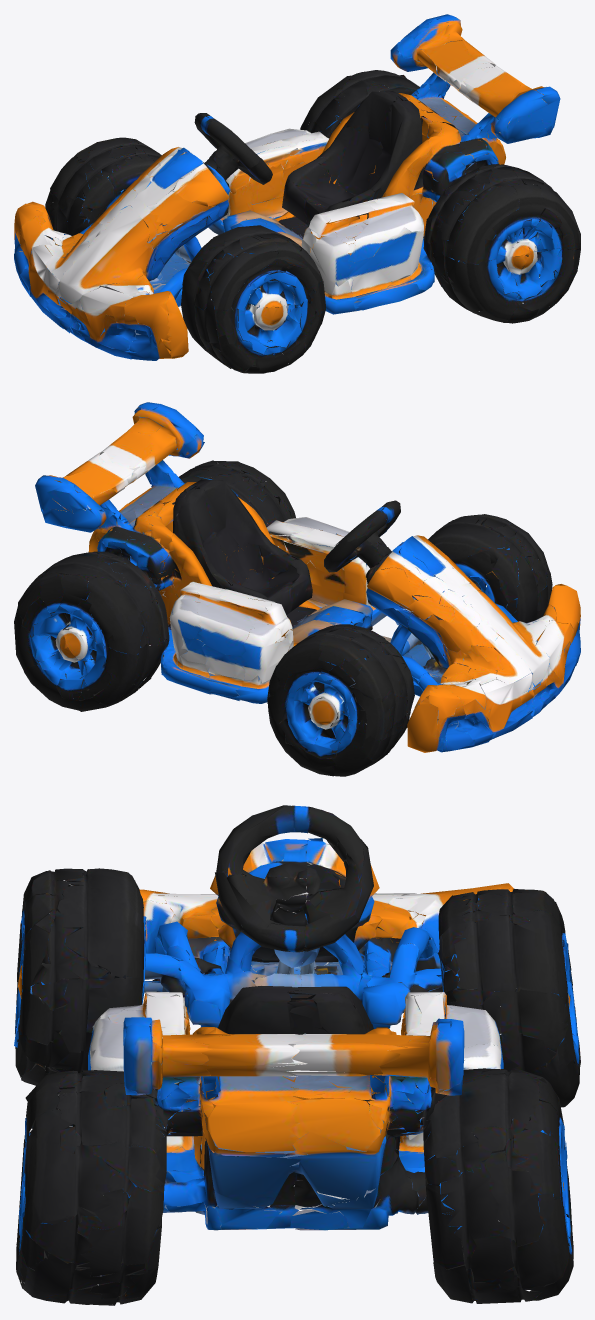
The model's file is v-3f3497d3.kart.glb.
3 renders of one model, top to bottom at view 1: azimuth 30°, elevation 25°; view 2: azimuth 150°, elevation 25°; view 3: azimuth 270°, elevation 25°, orthographic. The views are drawn at different scales.
Parts seen in each view (by area): view 1: Mesh_0; view 2: Mesh_0; view 3: Mesh_0.
Part boxes in pixels (left/top/right/bottom): Mesh_0: left=14, top=14, right=580, bottom=373; Mesh_0: left=14, top=402, right=580, bottom=776; Mesh_0: left=14, top=805, right=580, bottom=1305.
Size of the model in its own units: 1.95 by 0.845 by 1.38.
1 material, 1 textured.
